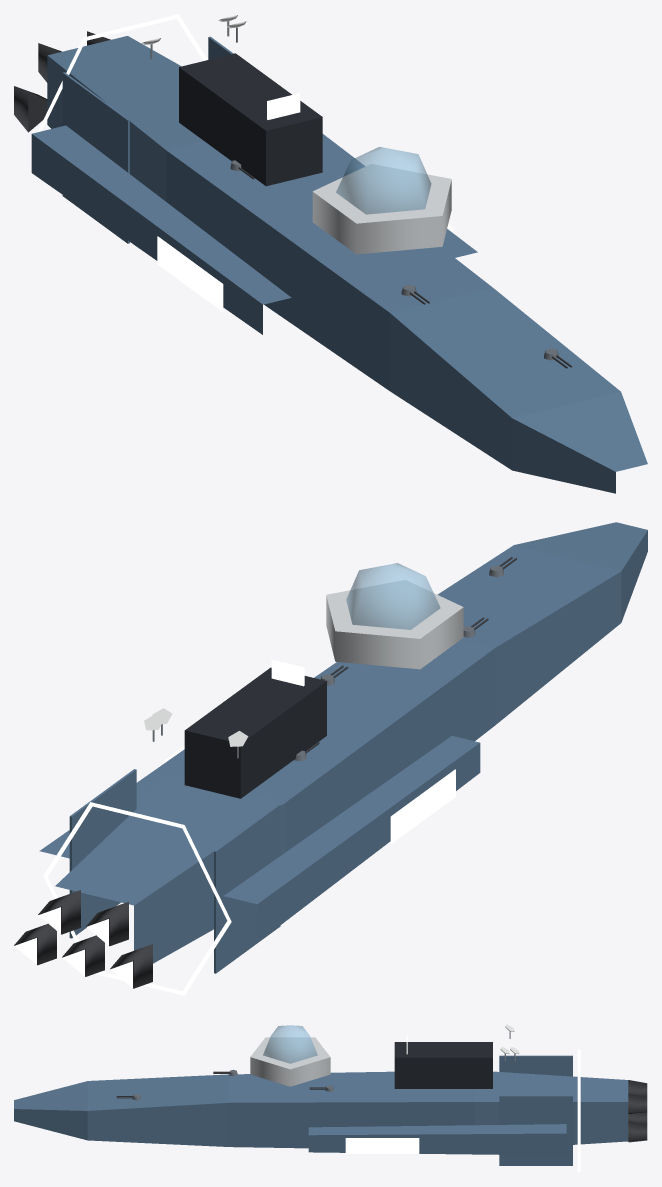
File: space_ship_command_ship_mk6_lod2.glb
The picture shows the model from 3 angles, top to bottom: view 1: azimuth 30°, elevation 25°; view 2: azimuth 150°, elevation 25°; view 3: azimuth 270°, elevation 25°; orthographic projection. The views are drawn at different scales.
Visible parts, largest first — view 1: body, hangar_r, engine_0; view 2: body, hangar_r, engine_1, engine_3, engine_0, engine_2, engine_4; view 3: body, hangar_l, engine_3, engine_4, engine_1.
Boxes of the visible parts, box(x1,y1,x2,y2) form: body: box(31, 14, 647, 493); hangar_r: box(157, 236, 223, 311); engine_0: box(14, 86, 47, 132); body: box(39, 522, 647, 995); hangar_r: box(390, 769, 455, 843); engine_1: box(86, 901, 128, 946); engine_3: box(38, 890, 80, 934); engine_0: box(110, 944, 152, 988); engine_2: box(62, 935, 104, 976); engine_4: box(14, 923, 56, 965); body: box(14, 1025, 628, 1172); hangar_l: box(345, 1138, 419, 1153); engine_3: box(628, 1093, 647, 1114); engine_4: box(628, 1121, 647, 1142); engine_1: box(628, 1080, 647, 1097).
Size of the model in its own units: 31.34 by 30.87 by 132.
